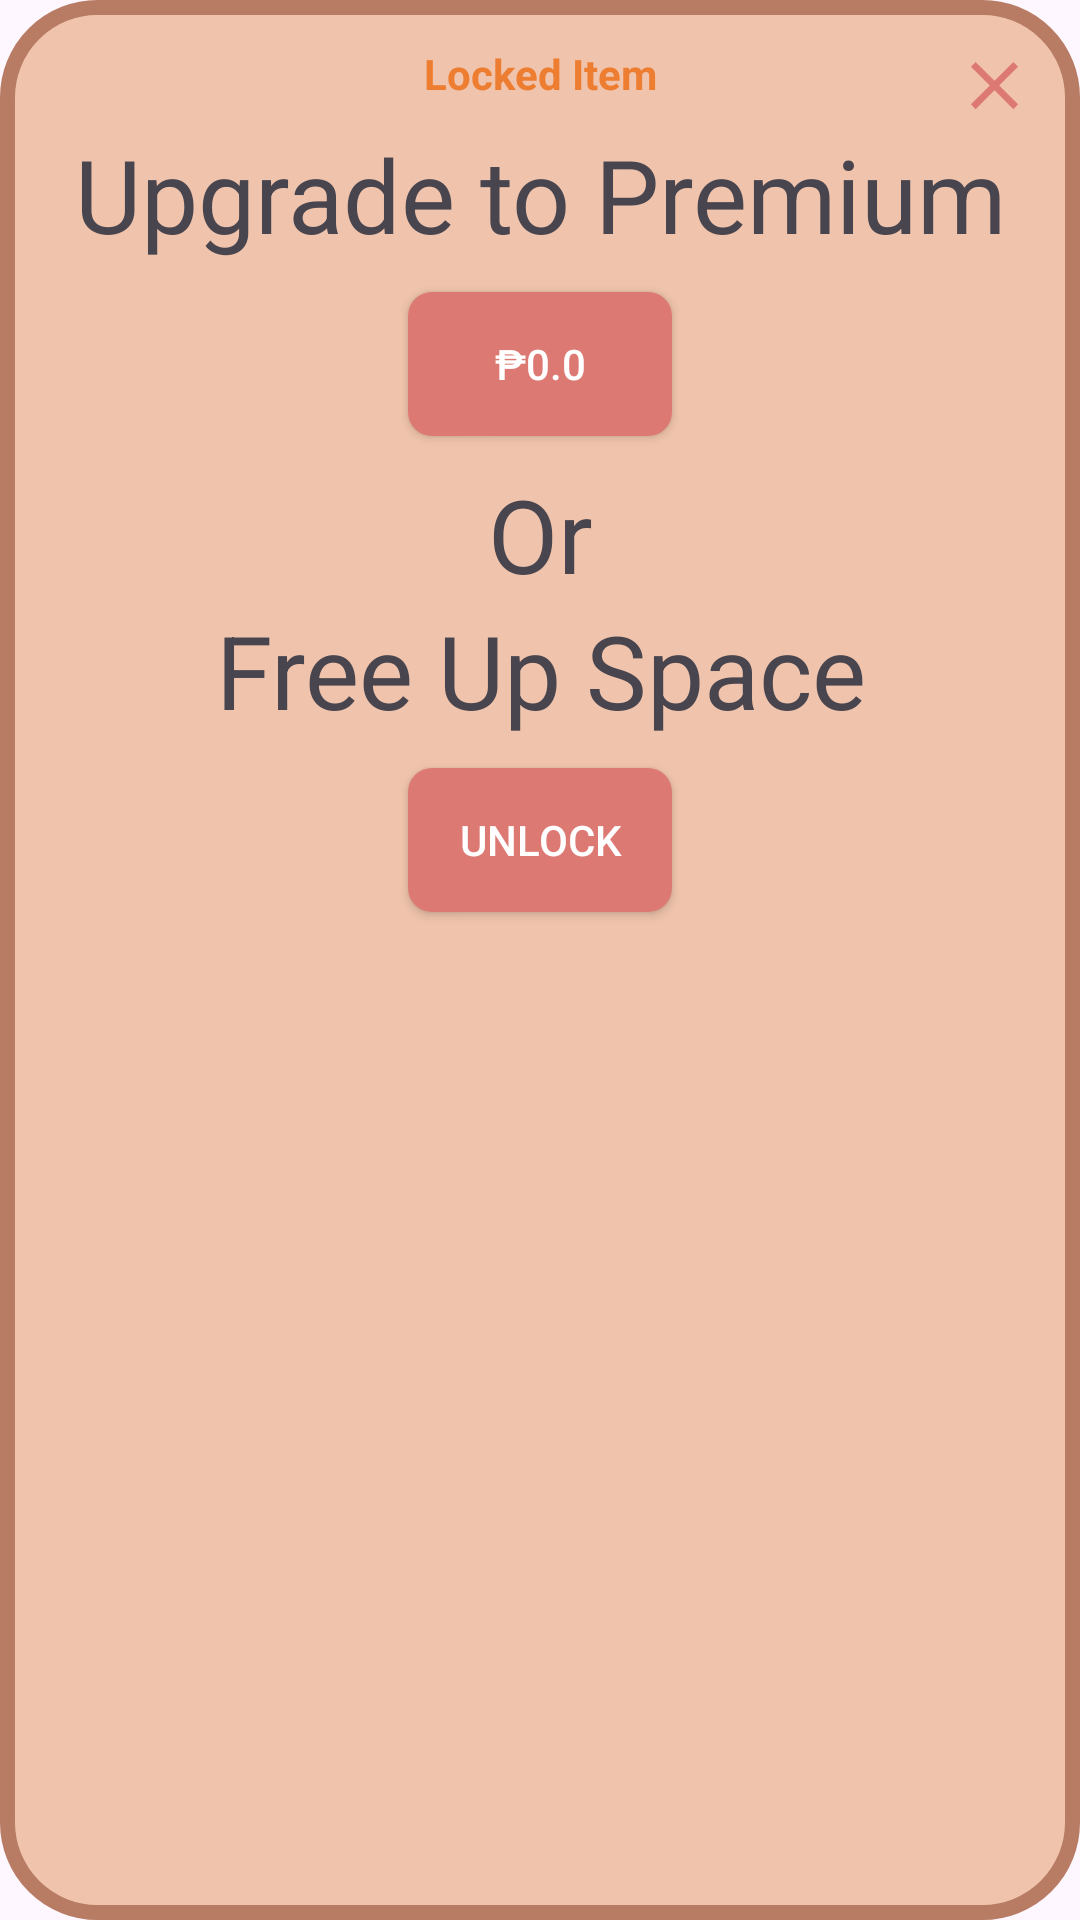

Icons on this 1080*1920 Android screen, each with its box as bbox=(x1, y1, x2, y2):
close: bbox=(971, 62, 1018, 109)
